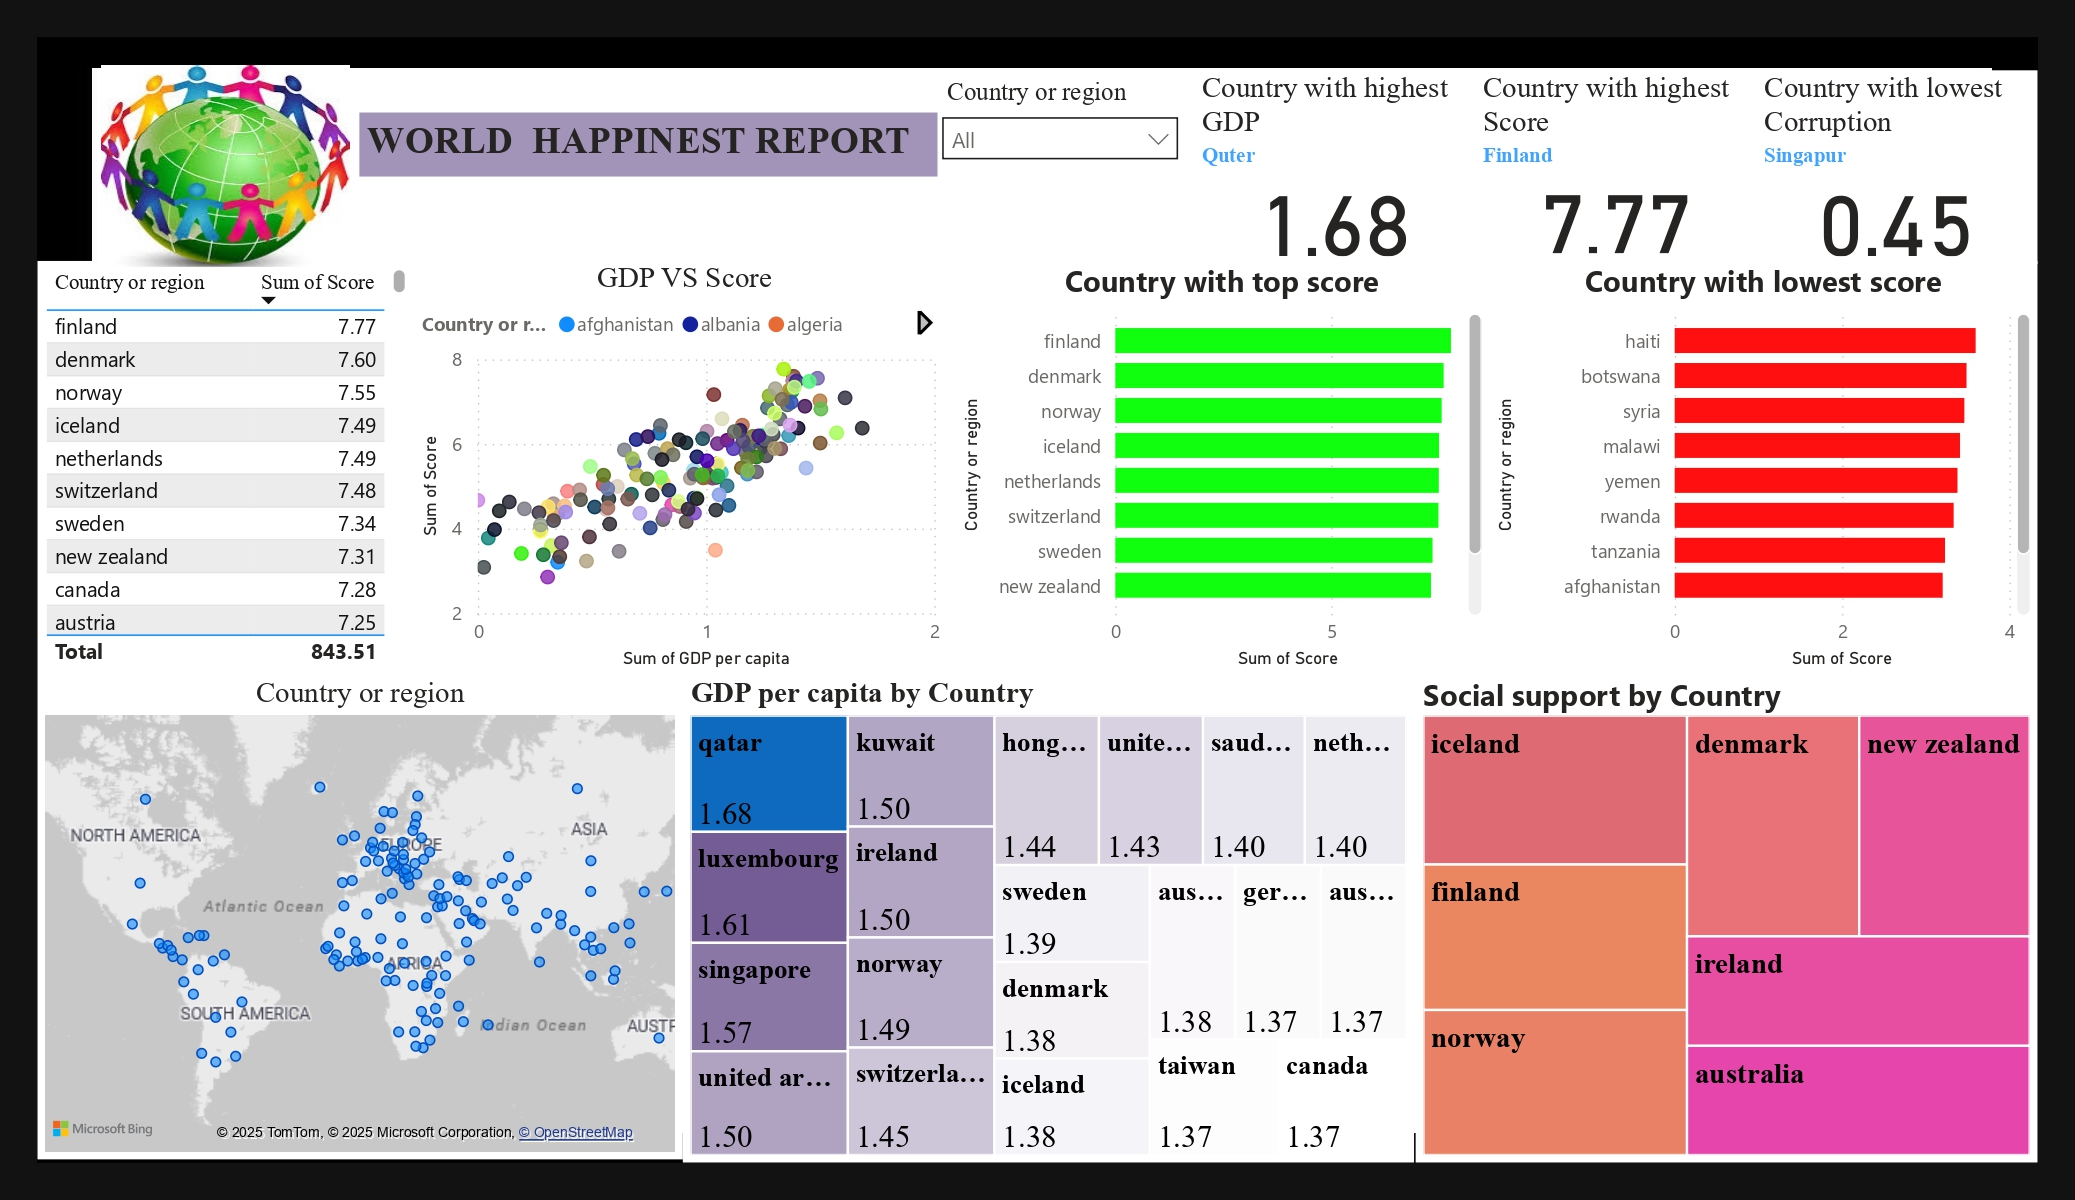

The page's visual inventory and layout, read from the dashboard file:
{"tool":"powerbi","page":{"name":"Page 1","canvas":[1280,720],"ordinal":0},"visuals":[{"type":"clusteredBarChart","title":"Country with top score","fields":{"Category":["Happiness Score Data.Country or region"],"Y":["Sum(Happiness Score Data.Score)"]},"box":[587,143,342,265],"z":0},{"type":"clusteredBarChart","title":"Country with lowest score","fields":{"Category":["Happiness Score Data.Country or region"],"Y":["Sum(Happiness Score Data.Score)"]},"box":[929,143,351,265],"z":1000},{"type":"map","fields":{"Category":["Happiness Score Data.Country or region"]},"box":[0,407.5,412.5,310],"z":2000},{"type":"scatterChart","title":"GDP VS Score","fields":{"X":["Sum(Happiness Score Data.GDP per capita)"],"Y":["Sum(Happiness Score Data.Score)"],"Series":["Happiness Score Data.Country or region"]},"box":[241,143,346,265],"z":3000},{"type":"slicer","fields":{"Values":["Happiness Score Data.Country or region"]},"box":[569,21,171,68],"z":4000},{"type":"card","title":"Country with highest GDP","fields":{"Values":["Max(Happiness Score Data.GDP per capita)"]},"box":[740,21,180,124],"z":6000},{"type":"treemap","title":"GDP per capita by Country ","fields":{"Values":["Sum(Happiness Score Data.GDP per capita)"],"Group":["Happiness Score Data.Country or region"]},"box":[412.5,407.5,468.8,312.5],"z":8000},{"type":"card","title":"Country with highest Score","fields":{"Values":["Max(Happiness Score Data.Score)"]},"box":[920,21,180,122],"z":9000},{"type":"card","title":"Country with lowest Corruption","fields":{"Values":["Max(Happiness Score Data.Perceptions of corruption)"]},"box":[1100,21,180,124],"z":10000},{"type":"textbox","box":[206,48,370,41],"z":11000},{"type":"tableEx","fields":{"Values":["Happiness Score Data.Country or region","Sum(Happiness Score Data.Score)"]},"box":[0,143,241,265],"z":12000},{"type":"treemap","title":"Social support by Country ","fields":{"Group":["Happiness Score Data.Country or region"],"Values":["Sum(Happiness Score Data.Social support)"]},"box":[882,408,398.1,312.2],"z":12001},{"type":"image","box":[36,13,169,139],"z":12002}]}

Visuals, with their boxes in screenshot pixels (x1, y1, x2, y2):
"Country with top score" clusteredBarChart: region(955, 261, 1489, 675)
"Country with lowest score" clusteredBarChart: region(1489, 261, 2038, 675)
map - Happiness Score Data.Country or region: region(38, 674, 682, 1159)
"GDP VS Score" scatterChart: region(414, 261, 955, 675)
slicer - Happiness Score Data.Country or region: region(927, 70, 1194, 177)
"Country with highest GDP" card: region(1194, 70, 1475, 264)
"GDP per capita by Country " treemap: region(682, 674, 1415, 1162)
"Country with highest Score" card: region(1475, 70, 1756, 261)
"Country with lowest Corruption" card: region(1756, 70, 2038, 264)
textbox: region(359, 112, 938, 177)
tableEx - Happiness Score Data.Country or region x Sum(Happiness Score Data.Score): region(38, 261, 414, 675)
"Social support by Country " treemap: region(1416, 675, 2038, 1162)
image: region(94, 58, 358, 275)
